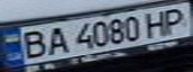0: (121, 12, 145, 42), (90, 18, 112, 47)
4: (72, 20, 93, 52)
8: (106, 16, 127, 45)
A: (42, 25, 72, 56)
B: (15, 28, 51, 61)
H: (139, 8, 175, 37)
P: (157, 4, 193, 34)
